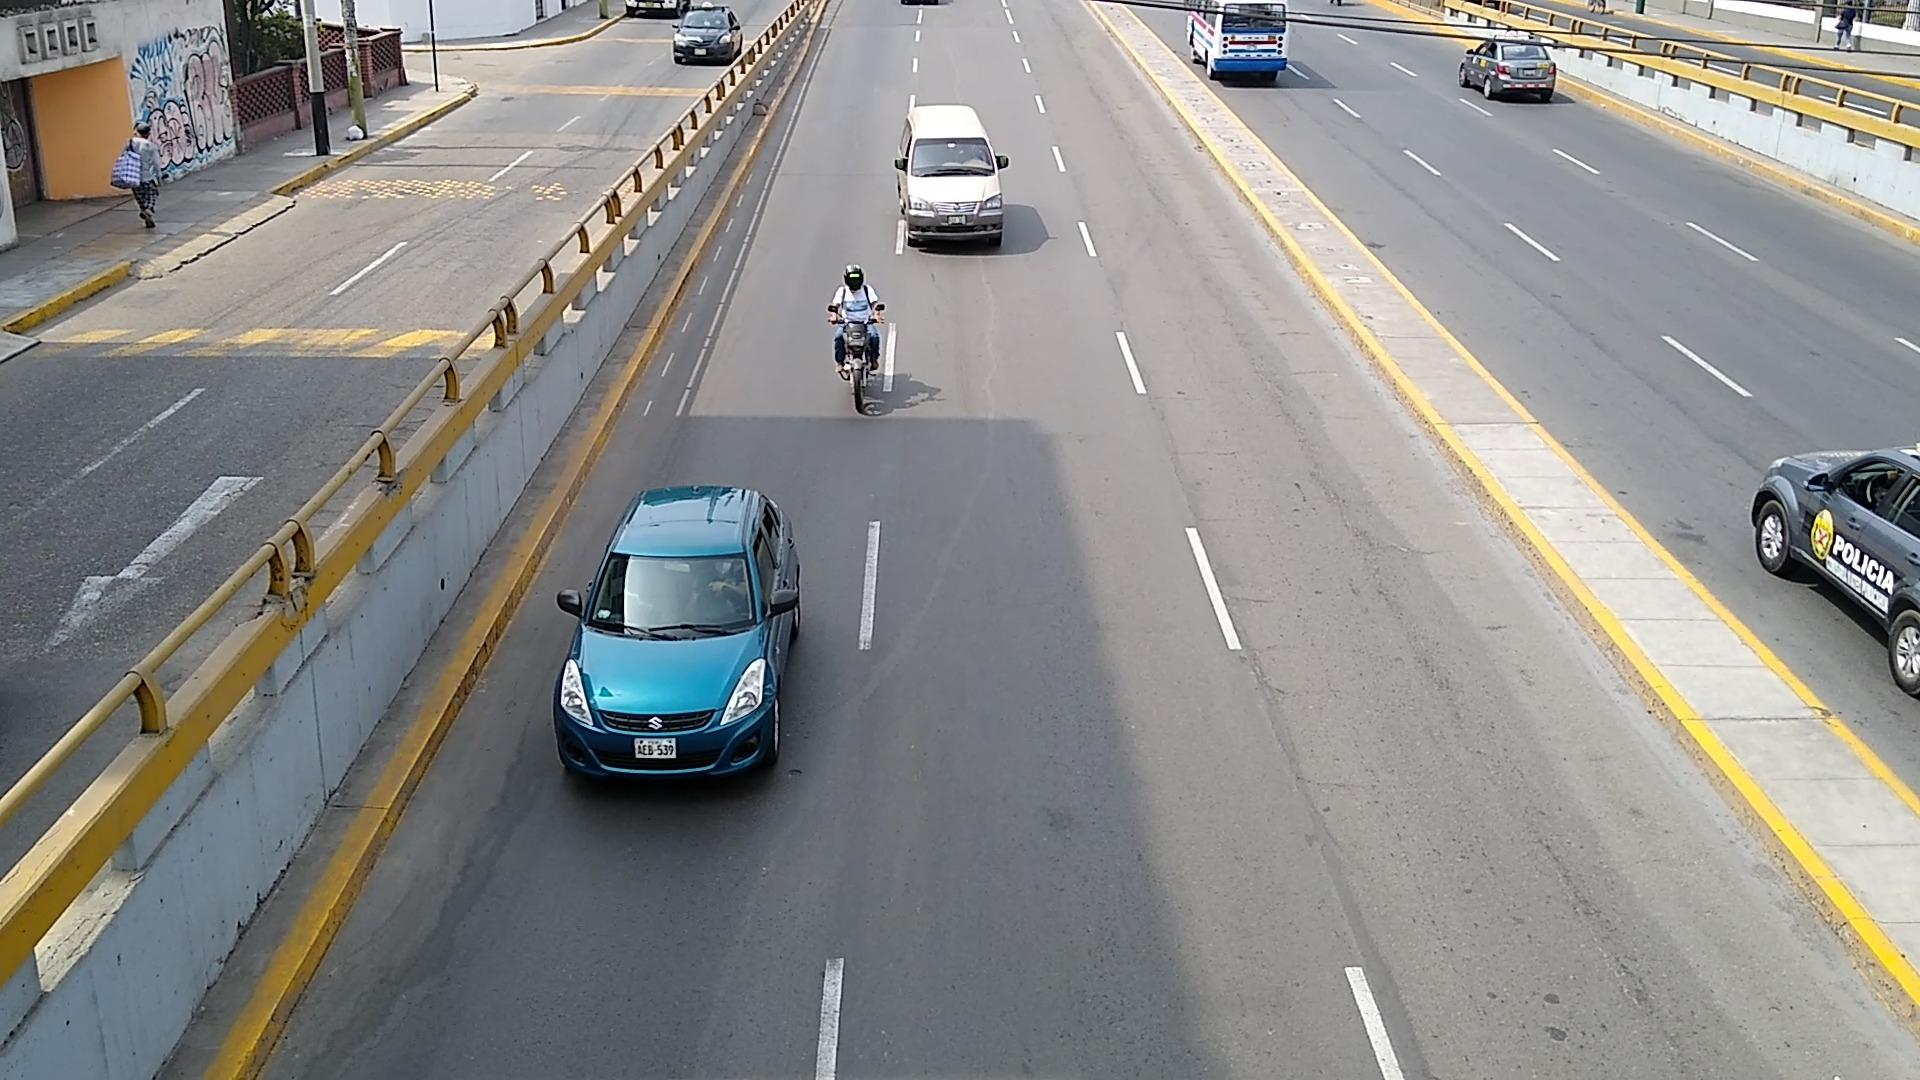bus: (1185, 0, 1286, 86)
car: (555, 488, 802, 776), (1751, 444, 1920, 696), (892, 105, 1012, 248), (1459, 38, 1556, 101), (671, 8, 742, 62)
pedestrian: (112, 124, 161, 229)
